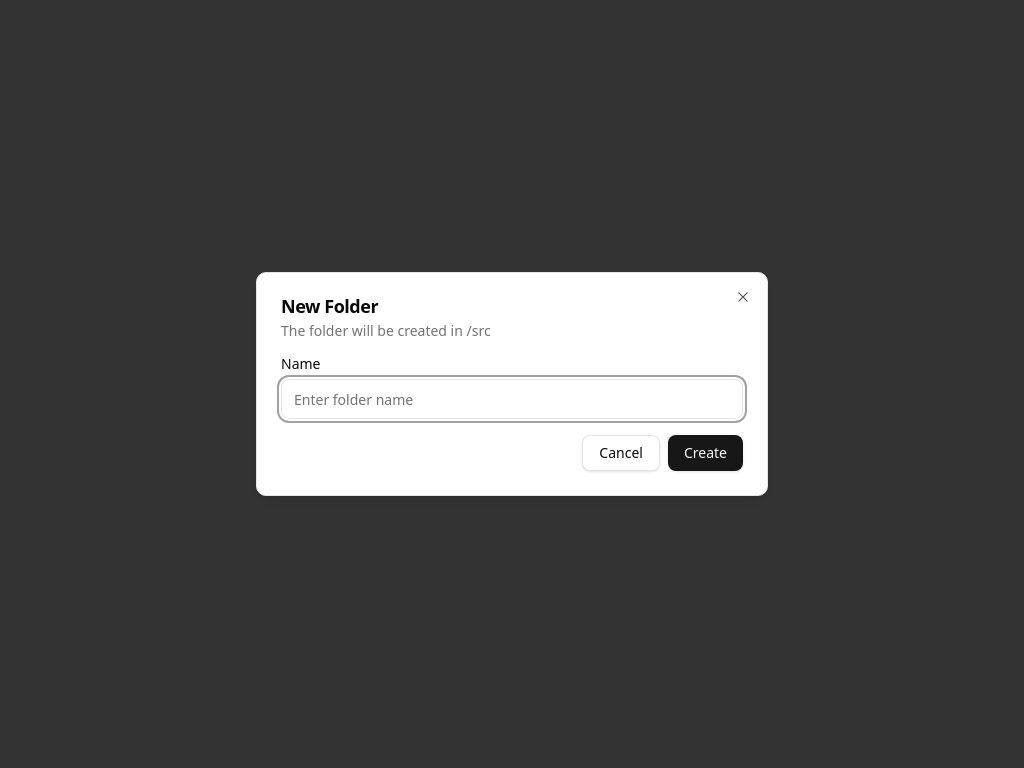
Scenario: Create Folder Integration › prevents duplicate folder names
# Try to create folder with existing name
Type "models" into the field labelled "Name".
click(512, 399); type("models")  # box [281,379,743,419]
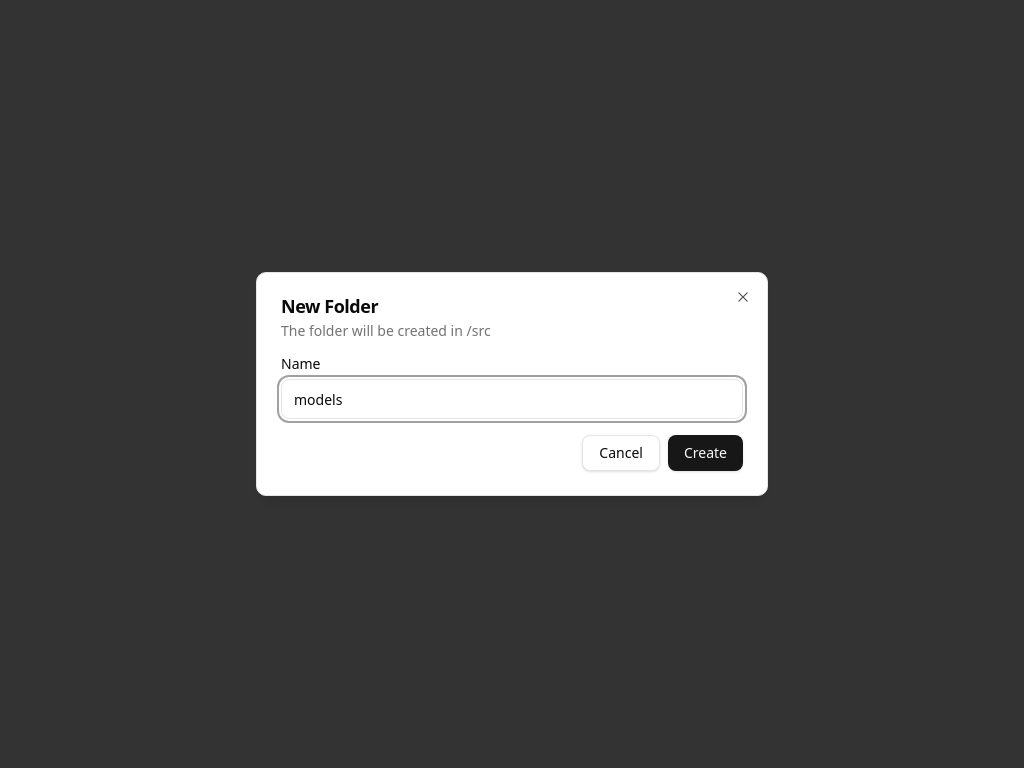
Click the button "Create".
click(705, 453)  # box [668,435,743,471]
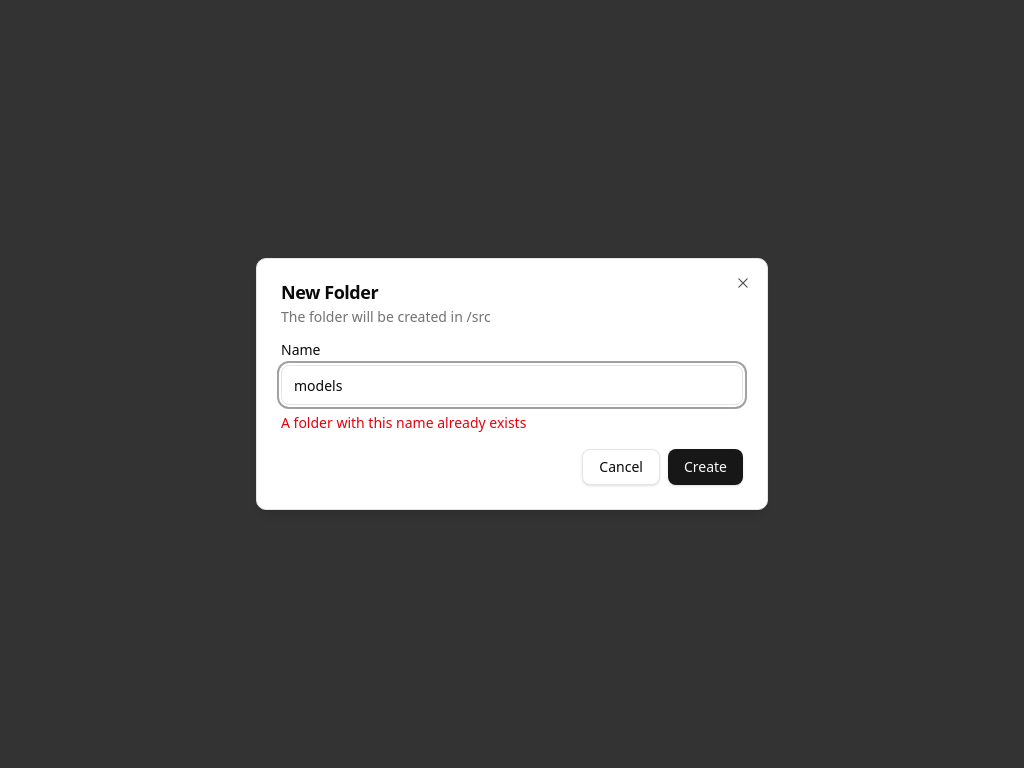
Check: the message shows "already exists", box [281,413,526,432]
